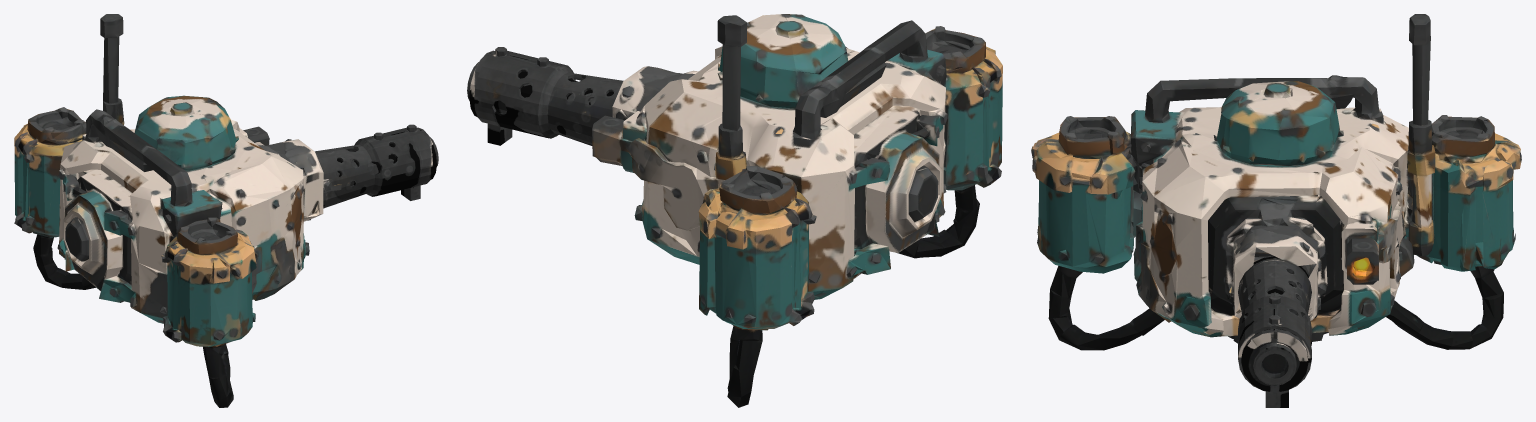
File: SM_TurretHead.fbx
3 renders of one model, left to right at view 1: azimuth 30°, elevation 25°; view 2: azimuth 150°, elevation 25°; view 3: azimuth 270°, elevation 25°, orthographic. The views are drawn at different scales.
Parts seen in each view (by area): view 1: SM_TurretHead; view 2: SM_TurretHead; view 3: SM_TurretHead.
Boxes of the visible parts, x1,y1,x2,y2 form: SM_TurretHead: [14, 14, 438, 407]; SM_TurretHead: [467, 14, 1002, 407]; SM_TurretHead: [1031, 14, 1521, 407].
Size of the model in its own units: 1.4 by 1.06 by 1.35.
